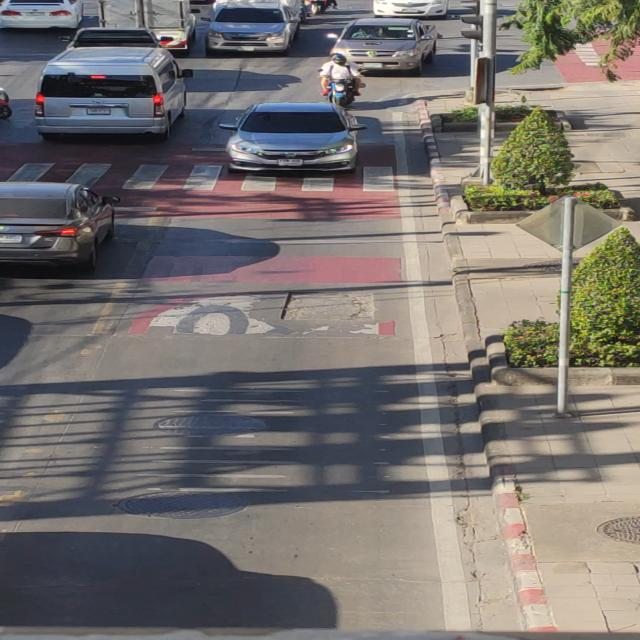car: (217, 97, 366, 178)
